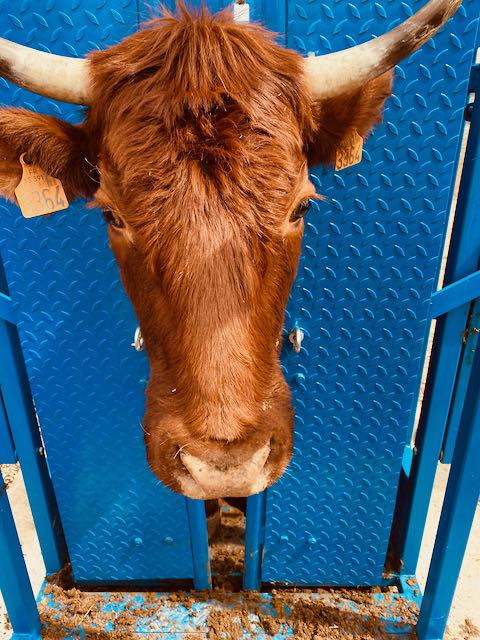muzzles: (135, 429, 302, 506)
